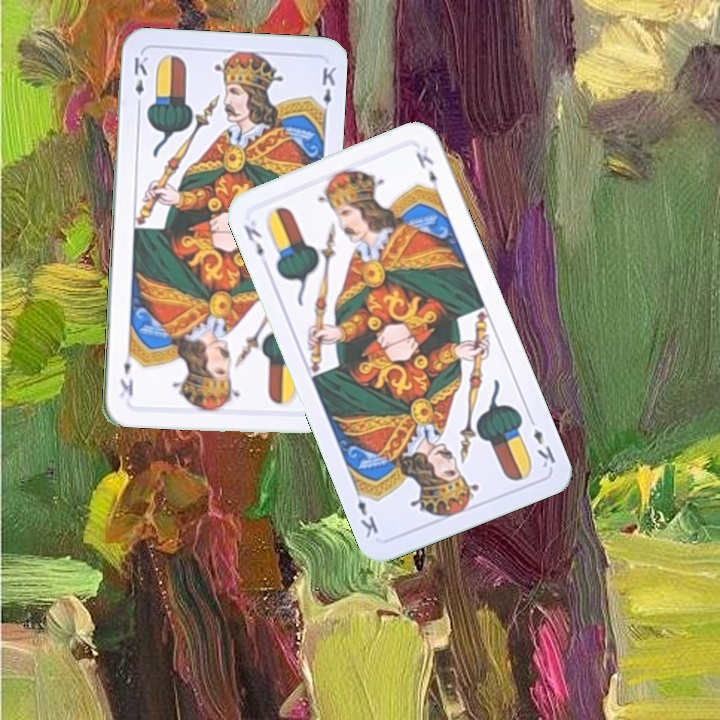EK: (524, 412, 559, 470), (130, 52, 150, 111), (239, 220, 266, 259)
